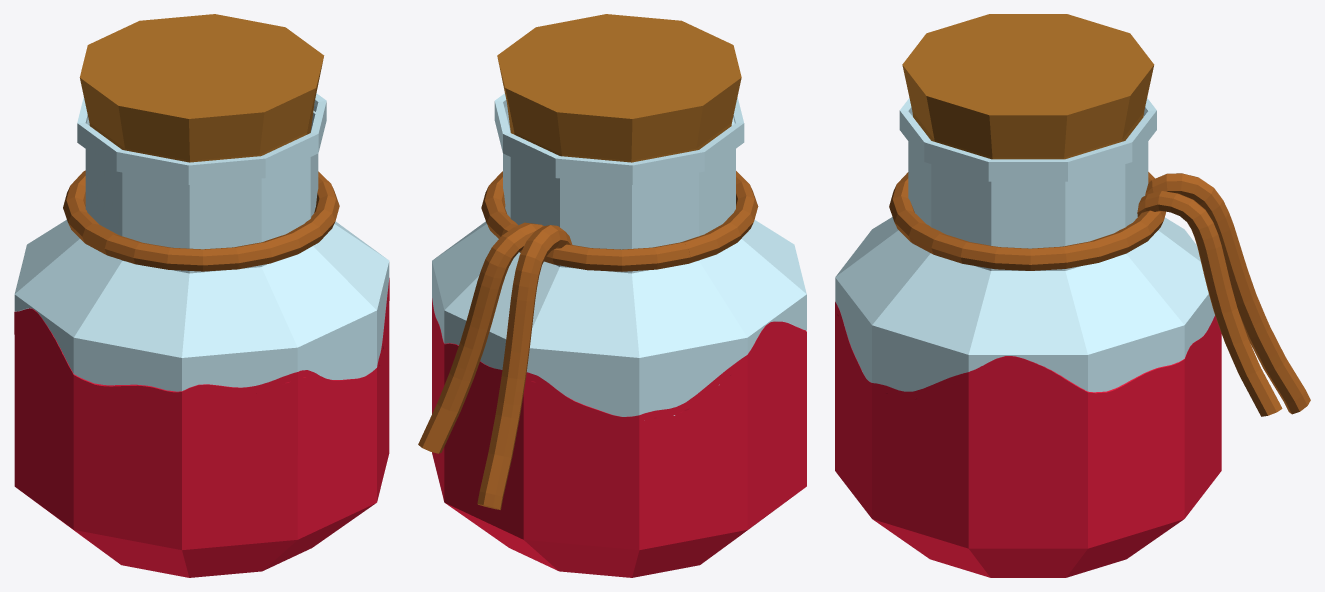
File: healingpotion3.fbx
3 renders of one model, left to right at view 1: azimuth 30°, elevation 25°; view 2: azimuth 150°, elevation 25°; view 3: azimuth 270°, elevation 25°, orthographic.
Parts seen in each view (by area): view 1: flasche, inhalt, korken, band; view 2: flasche, inhalt, korken, band; view 3: inhalt, flasche, korken, band.
Boxes of the visible parts, left/top/right/bottom form: flasche: left=14, top=93, right=389, bottom=391; inhalt: left=14, top=278, right=389, bottom=577; korken: left=79, top=14, right=324, bottom=162; band: left=63, top=170, right=339, bottom=271; flasche: left=432, top=93, right=806, bottom=416; inhalt: left=432, top=298, right=806, bottom=577; korken: left=497, top=14, right=741, bottom=162; band: left=418, top=171, right=758, bottom=509; inhalt: left=835, top=302, right=1221, bottom=577; flasche: left=835, top=98, right=1214, bottom=392; korken: left=902, top=14, right=1154, bottom=159; band: left=889, top=172, right=1310, bottom=416.
Bounding box in the file's own units: 52.35 × 73 × 67.77.
